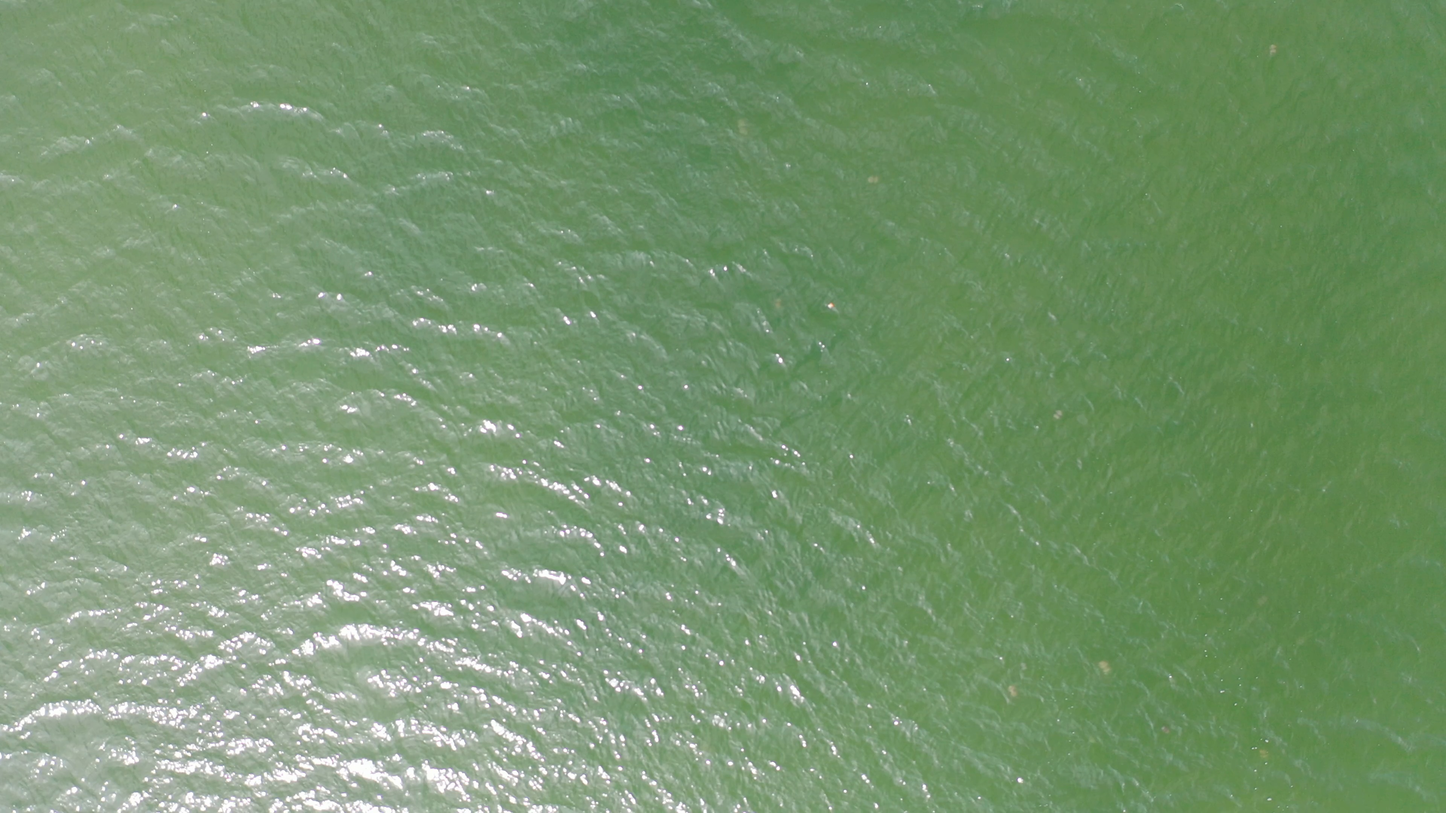meduse: (736, 120, 749, 135), (1098, 660, 1111, 672), (1007, 685, 1019, 697), (865, 175, 880, 184), (1055, 409, 1063, 419), (1260, 749, 1268, 758), (1270, 44, 1277, 54), (775, 300, 782, 310), (1161, 725, 1168, 734)
